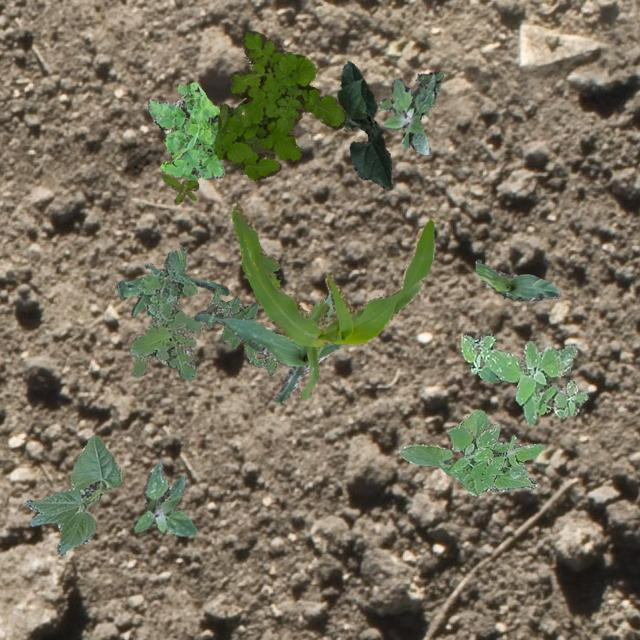crop: (230, 202, 434, 400), (192, 288, 344, 404), (398, 408, 536, 494), (24, 434, 120, 554), (116, 244, 228, 316), (337, 60, 392, 188), (474, 258, 560, 300)
weed: (212, 29, 346, 180), (460, 332, 588, 424), (130, 250, 202, 378), (146, 82, 224, 180), (200, 286, 276, 374), (448, 422, 544, 488), (378, 70, 443, 154), (132, 458, 196, 536), (160, 172, 198, 204)
